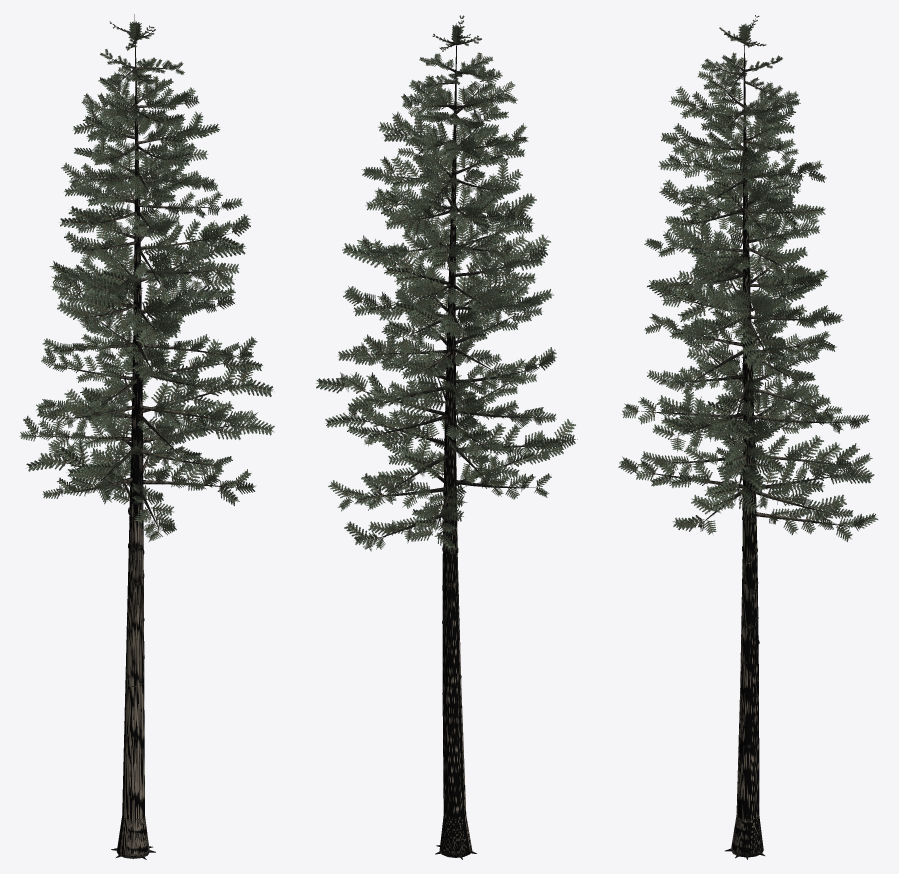
The model's file is Sitka_OldLarge_02_HighPruned_Healed_LOD0.fbx.
3 views of the same model, side by side, from view 1: azimuth 30°, elevation 25°; view 2: azimuth 150°, elevation 25°; view 3: azimuth 270°, elevation 25° (orthographic).
Parts seen in each view (by area): view 1: Sitka_OldLarge_02_HighPruned_Healed_LOD0; view 2: Sitka_OldLarge_02_HighPruned_Healed_LOD0; view 3: Sitka_OldLarge_02_HighPruned_Healed_LOD0.
Boxes of the visible parts, x1,y1,x2,y2 form: Sitka_OldLarge_02_HighPruned_Healed_LOD0: [19, 14, 274, 859]; Sitka_OldLarge_02_HighPruned_Healed_LOD0: [316, 15, 577, 859]; Sitka_OldLarge_02_HighPruned_Healed_LOD0: [618, 15, 878, 859].
Size of the model in its own units: 883 by 3000 by 884.
3 materials, 3 textured.
